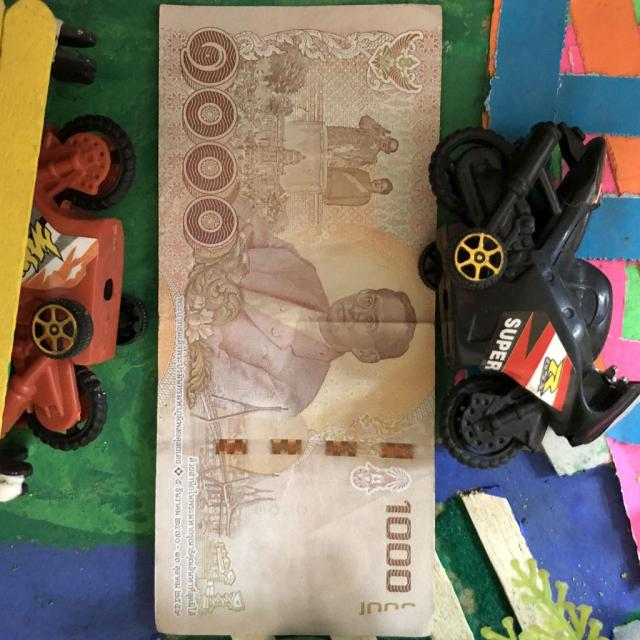THAI1000: (154, 5, 441, 638)
